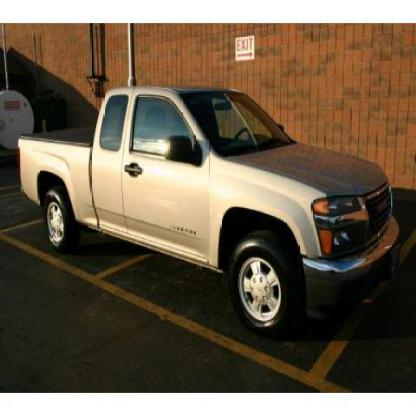Vehicle: (18, 84, 402, 340)
